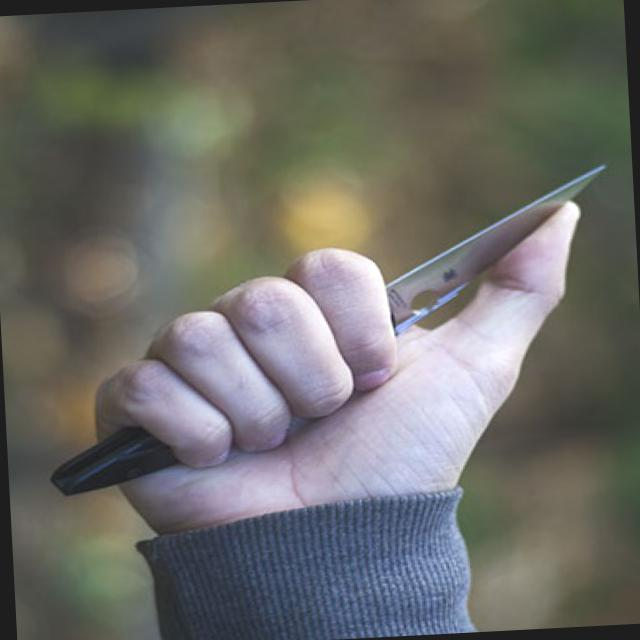knife: (220, 148, 636, 457)
